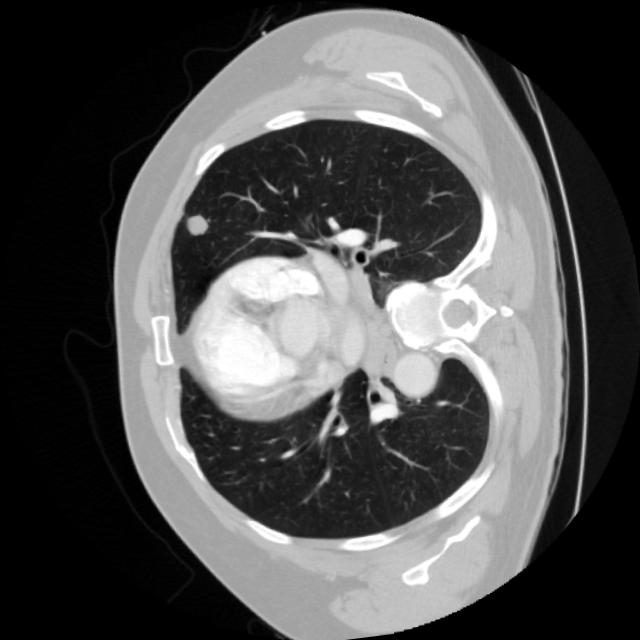nodule: (170, 197, 220, 247)
